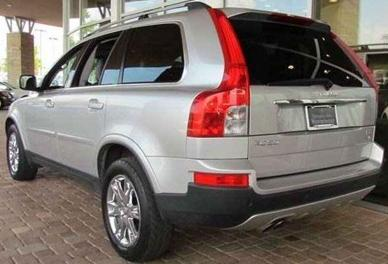back_view: (184, 6, 386, 190)
backlight: (177, 14, 260, 147)
side_glass: (38, 27, 124, 95)
